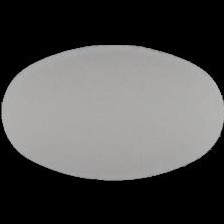61786-723: (0, 0, 224, 224)
